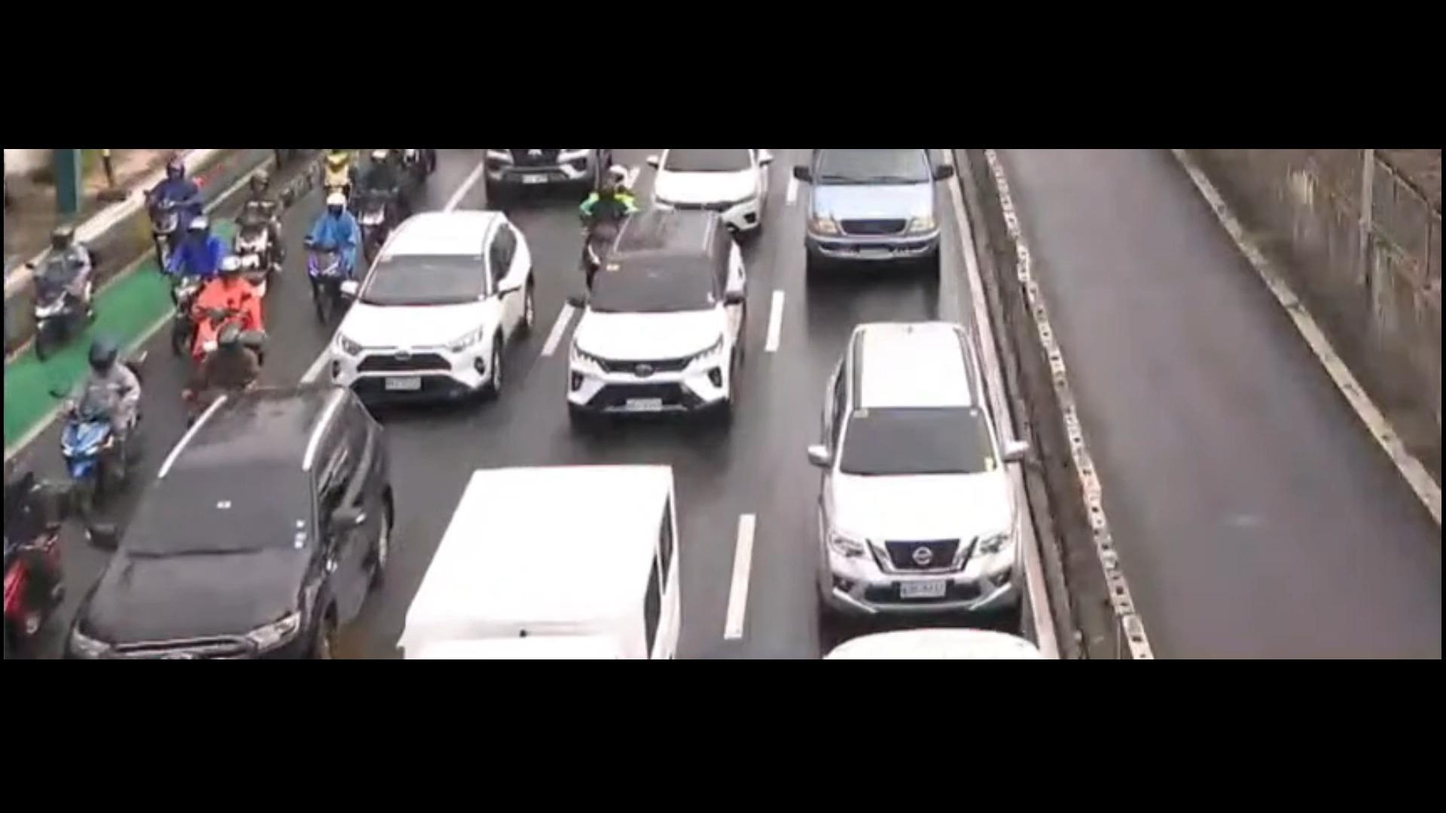Motorcycle: (49, 330, 140, 521), (173, 260, 279, 411), (0, 456, 83, 640), (4, 219, 110, 360), (302, 179, 369, 310), (159, 209, 238, 312), (569, 172, 652, 264), (228, 166, 288, 288), (141, 157, 206, 261), (361, 147, 418, 252), (313, 149, 360, 217)
Multicab: (364, 458, 720, 655)
SUV: (42, 362, 398, 666), (784, 309, 1023, 634), (293, 206, 560, 396), (549, 204, 774, 420), (793, 134, 972, 270), (479, 142, 608, 211)
Sedan: (649, 143, 791, 233)
